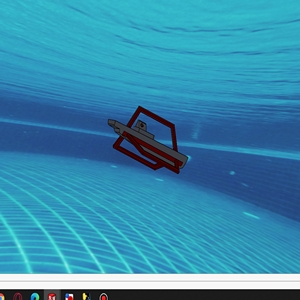submarine: (110, 105, 189, 175)
